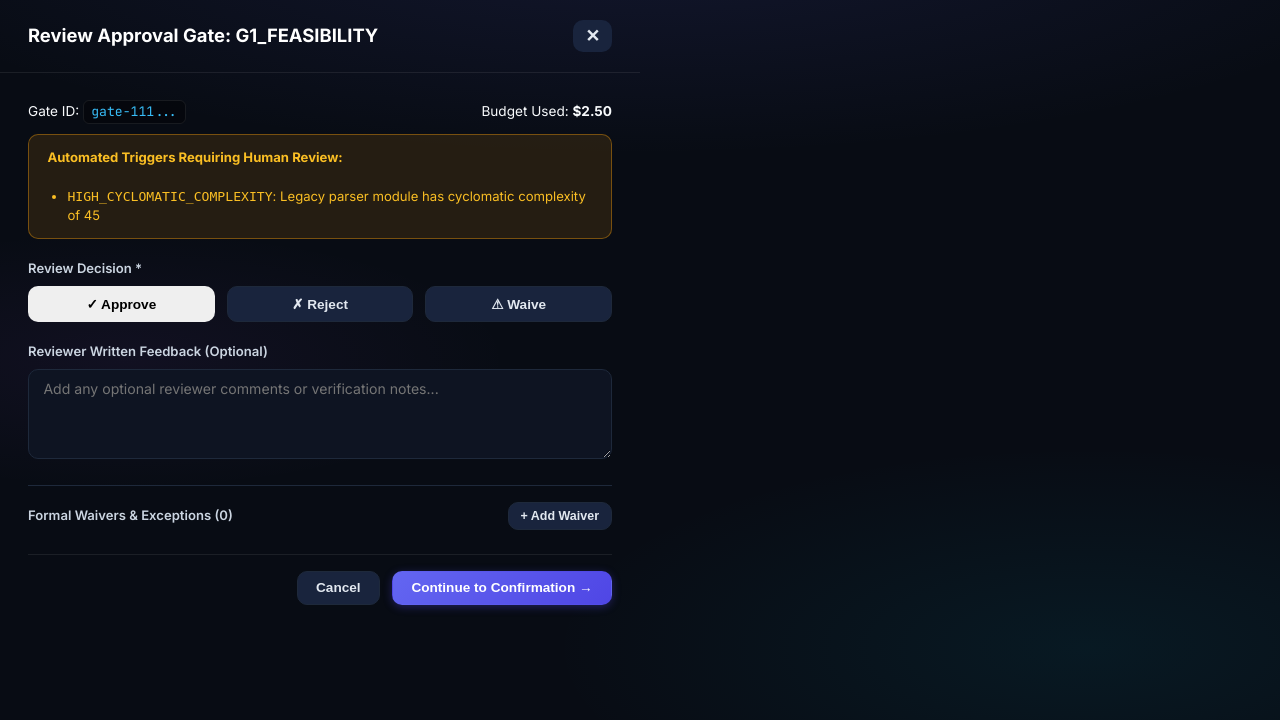
Test case: Gate Review and Decision Workflow › enforces mandatory written feedback on gate rejection
Switch decision to Reject
Click the button "✗ Reject" at x=320, y=304, box [227,286,413,322]
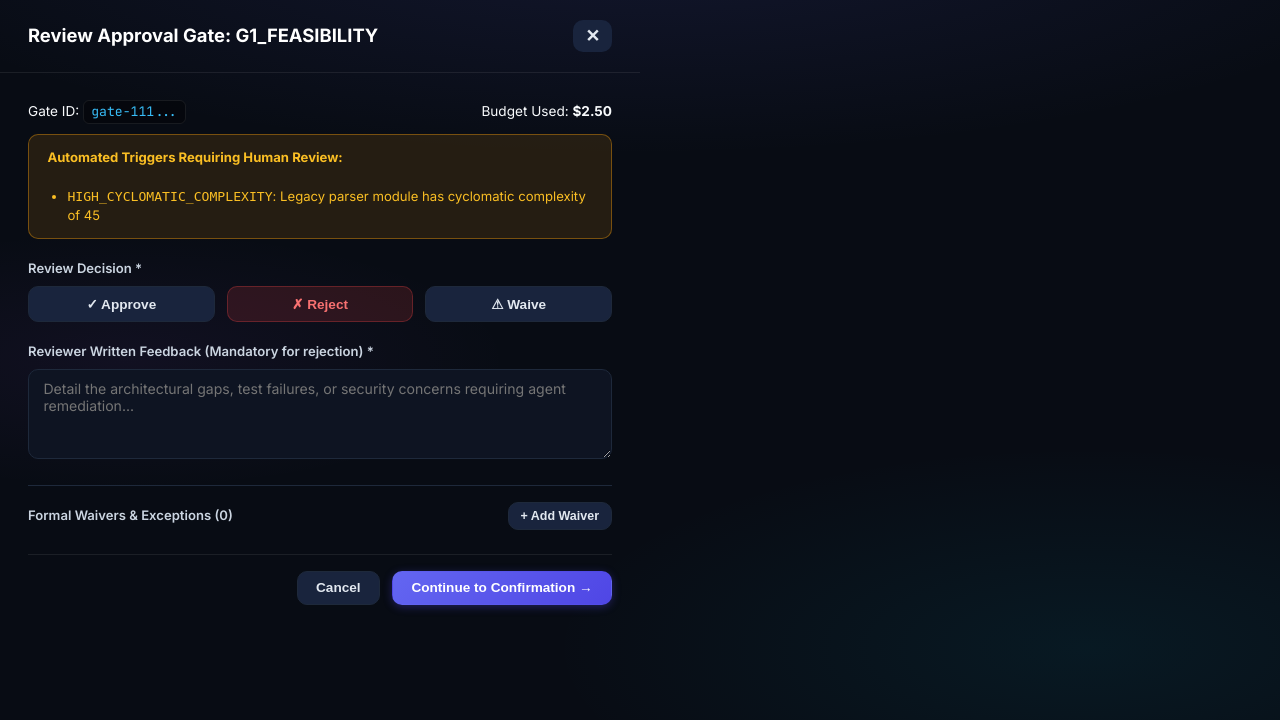
Click Continue without feedback
Click the button "Continue to Confirmation →" at x=502, y=588, box [392,570,612,605]
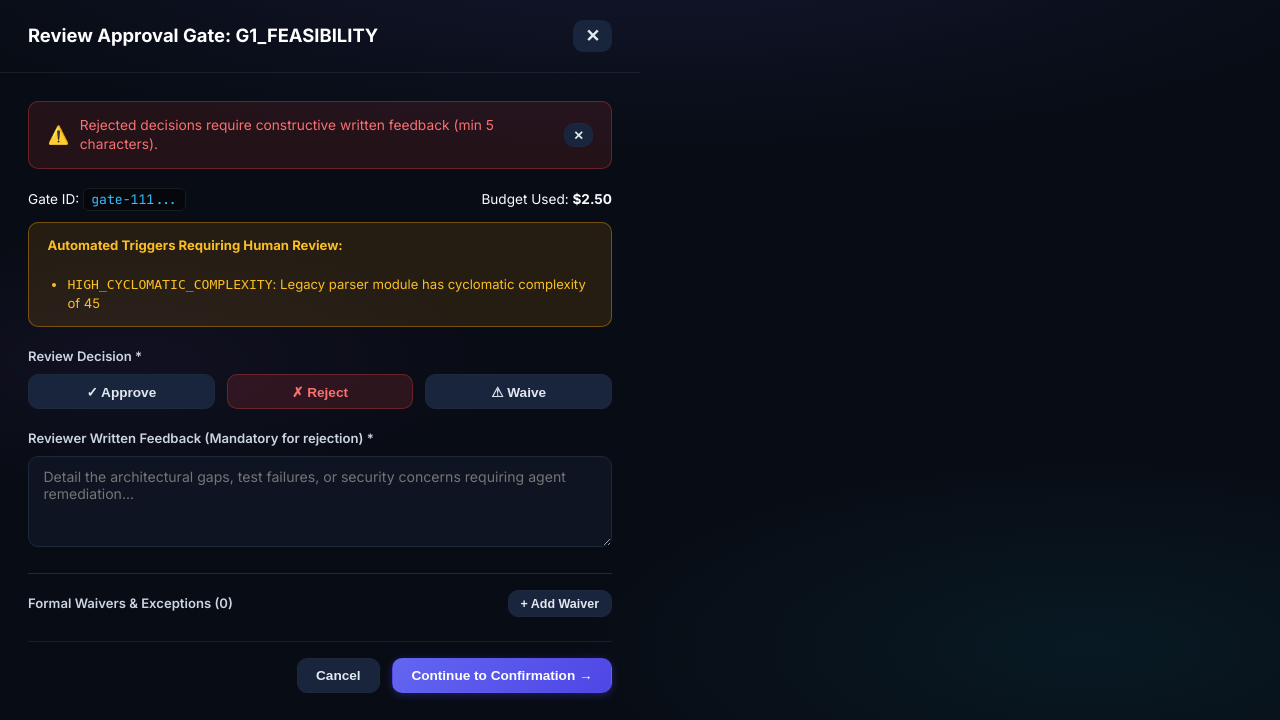
Check: the text "Rejected decisions require constructive written feedback" is shown, box [80,117,494,152]
